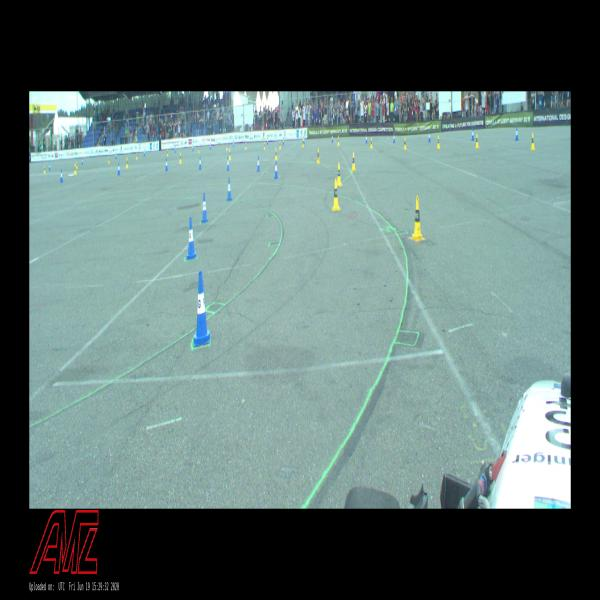blue_cone: (193, 272, 211, 346), (186, 218, 196, 259), (201, 192, 209, 224), (226, 176, 233, 202), (274, 159, 278, 179), (256, 155, 260, 173), (226, 156, 230, 172), (515, 126, 519, 142), (198, 155, 202, 170), (471, 128, 475, 141), (60, 169, 63, 183), (165, 158, 168, 171), (117, 163, 120, 174), (365, 134, 368, 144), (393, 133, 395, 144), (428, 132, 430, 143), (192, 143, 194, 152), (331, 134, 333, 142), (81, 158, 83, 166), (174, 146, 176, 154), (143, 149, 145, 155), (115, 153, 117, 158), (49, 162, 50, 171), (283, 137, 284, 146), (210, 142, 211, 150), (267, 137, 268, 145), (233, 140, 234, 148)
yellow_cone: (412, 196, 423, 241), (332, 179, 340, 211), (337, 162, 342, 186), (351, 152, 356, 172), (531, 133, 535, 151), (475, 133, 479, 148), (403, 137, 407, 151), (436, 135, 440, 149), (317, 147, 320, 165), (274, 148, 278, 161), (228, 148, 232, 161), (179, 152, 182, 165), (74, 163, 77, 176), (370, 137, 373, 149), (337, 136, 340, 147), (263, 141, 266, 151), (43, 166, 46, 174), (279, 140, 281, 150), (76, 160, 78, 170), (302, 138, 304, 148), (245, 141, 247, 151), (226, 142, 228, 151), (126, 158, 128, 167), (108, 155, 110, 163), (198, 146, 200, 153), (136, 153, 138, 159), (167, 149, 168, 155)
